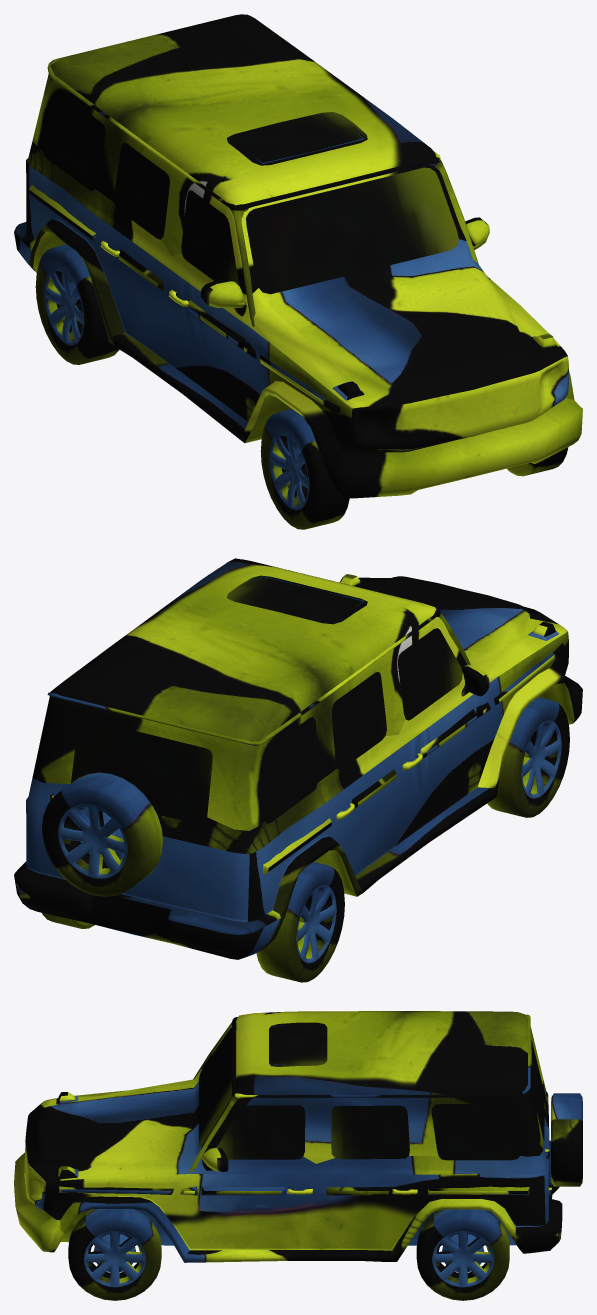
Rendered from car 8.fbx.
3 renders of one model, top to bottom at view 1: azimuth 30°, elevation 25°; view 2: azimuth 150°, elevation 25°; view 3: azimuth 270°, elevation 25°, orthographic. The views are drawn at different scales.
Parts seen in each view (by area): view 1: BODY, T1, T3, T2; view 2: BODY, T3, T1; view 3: BODY, T2, T4.
Part boxes in pixels (left/top/right/bottom): BODY: left=14, top=14, right=582, bottom=498; T1: left=260, top=409, right=349, bottom=529; T3: left=35, top=244, right=119, bottom=364; T2: left=507, top=447, right=568, bottom=476; BODY: left=14, top=558, right=582, bottom=959; T3: left=256, top=862, right=344, bottom=982; T1: left=487, top=697, right=569, bottom=817; BODY: left=14, top=1011, right=582, bottom=1262; T2: left=68, top=1209, right=161, bottom=1300; T4: left=416, top=1209, right=509, bottom=1300.
Size of the model in its own units: 2101 by 1927 by 4711.
